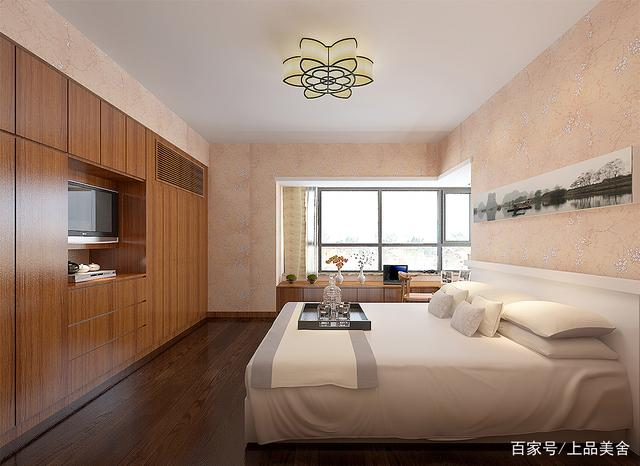床: (231, 298, 604, 451)
枕头: (423, 284, 611, 348)
灯: (280, 29, 378, 104)
